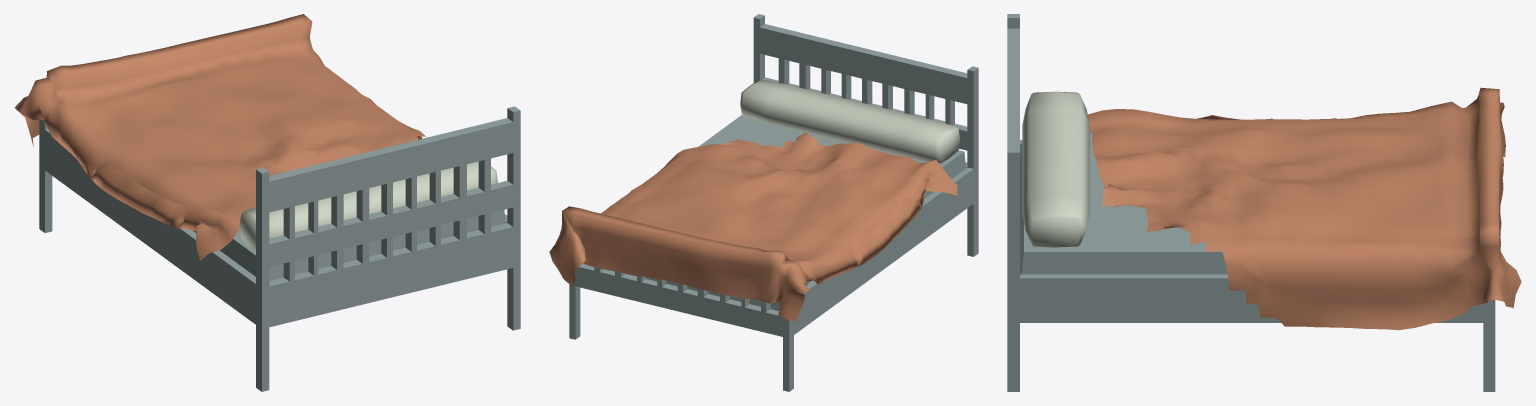
Rendered from cama2.fbx.
3 views of the same model, side by side, from view 1: azimuth 30°, elevation 25°; view 2: azimuth 150°, elevation 25°; view 3: azimuth 270°, elevation 25° (orthographic). The views are drawn at different scales.
Parts seen in each view (by area): view 1: Plane; view 2: Plane; view 3: Plane.
Part boxes in pixels (left/top/right/bottom): Plane: left=14, top=14, right=520, bottom=391; Plane: left=549, top=14, right=978, bottom=391; Plane: left=1007, top=14, right=1521, bottom=391.
Bounding box in the file's own units: 344 × 236 × 460.
